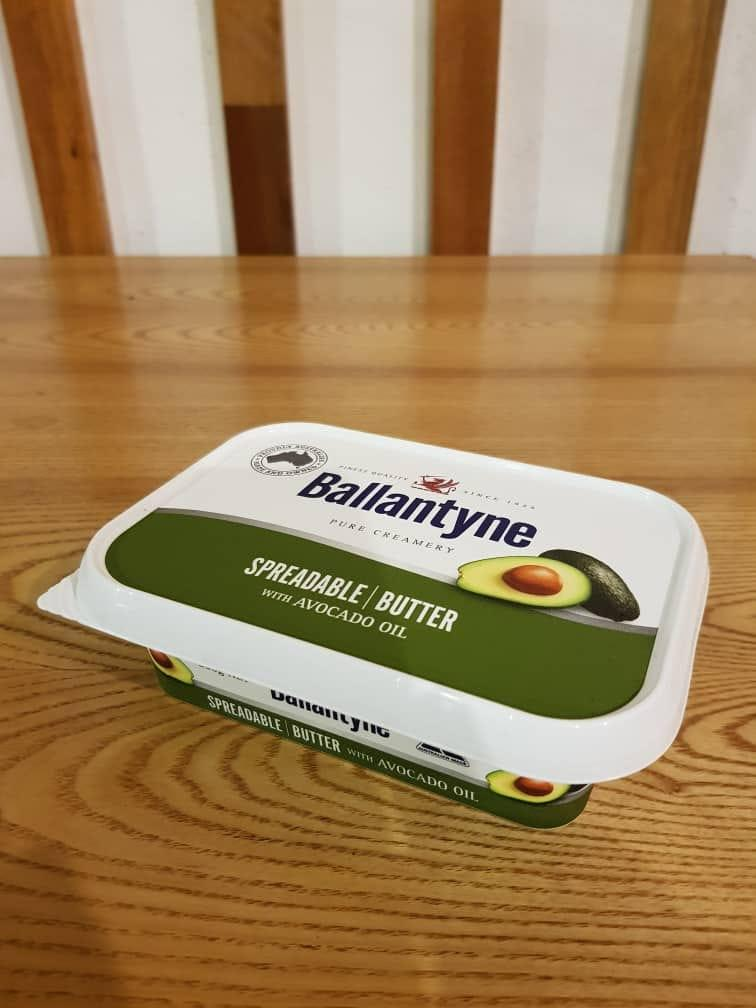plastic: (40, 423, 707, 827)
